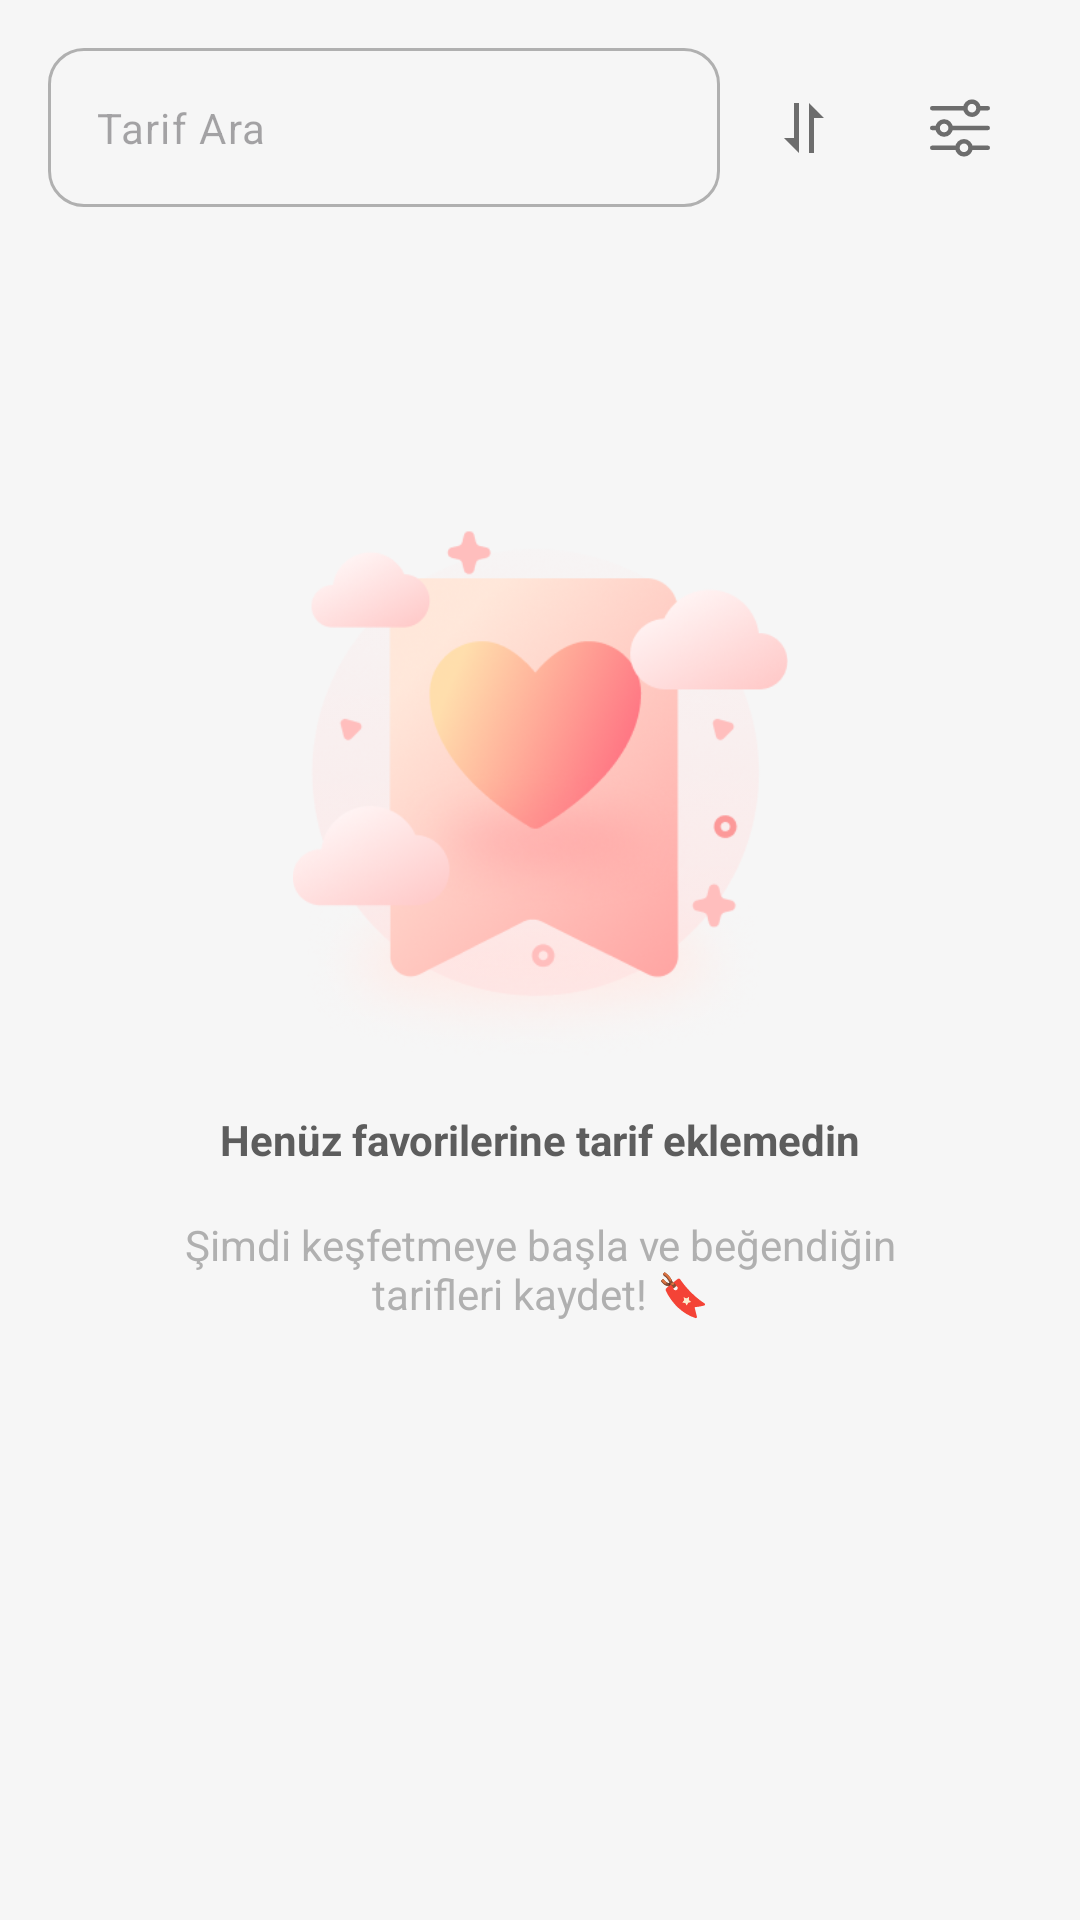

Named icons in this screenshot (1080x1920) and their bounding boxes, {"x1": x1, "y1": y1, "x2": x2, "y2": y2}:
filter: {"x1": 930, "y1": 99, "x2": 990, "y2": 157}
sort: {"x1": 784, "y1": 103, "x2": 824, "y2": 153}
